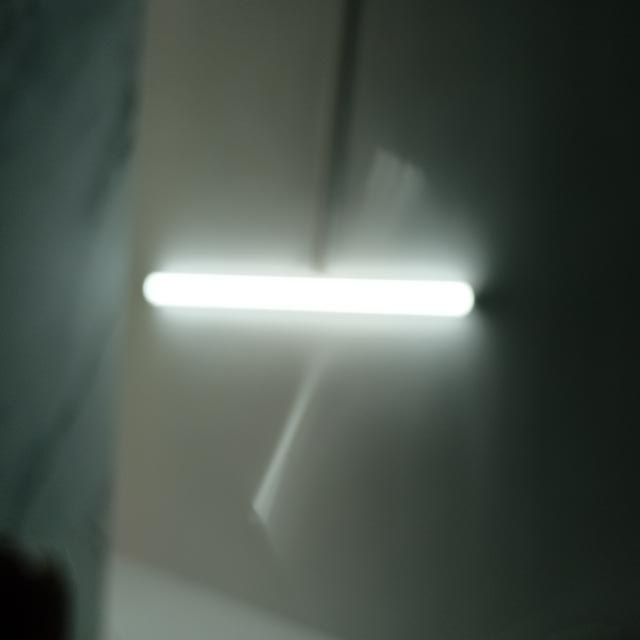fluorescent tube: (138, 249, 490, 342)
